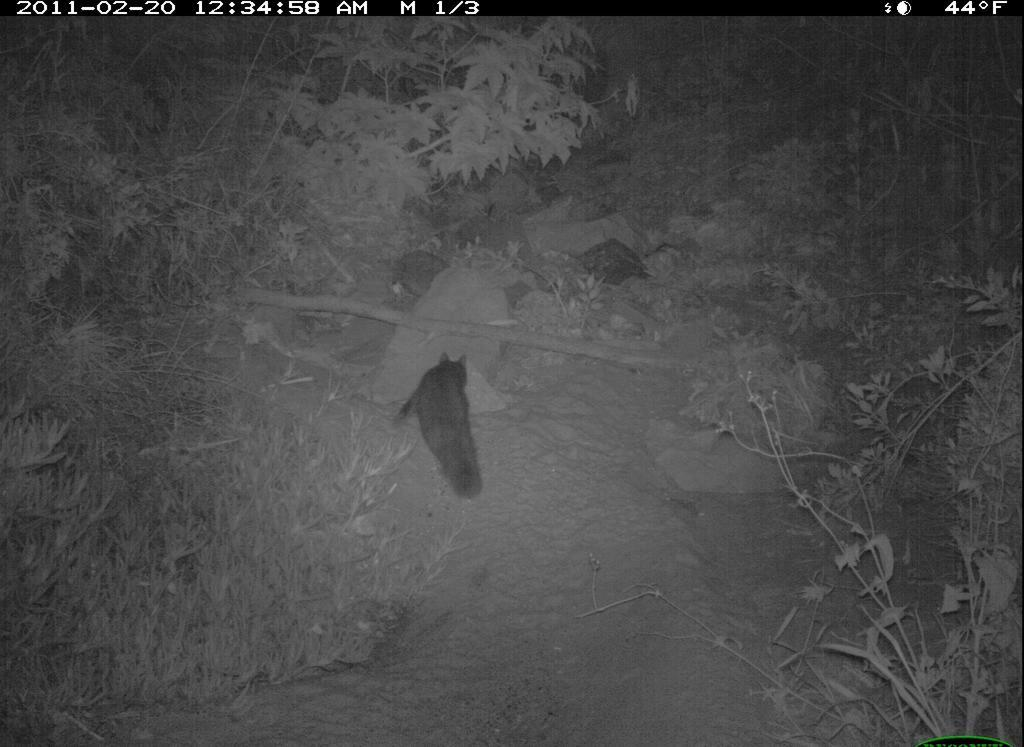cat: (392, 349, 496, 507)
